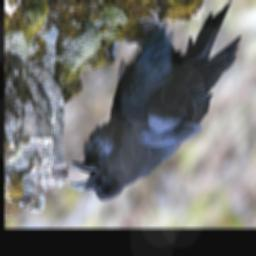Crow: (69, 0, 241, 202)
